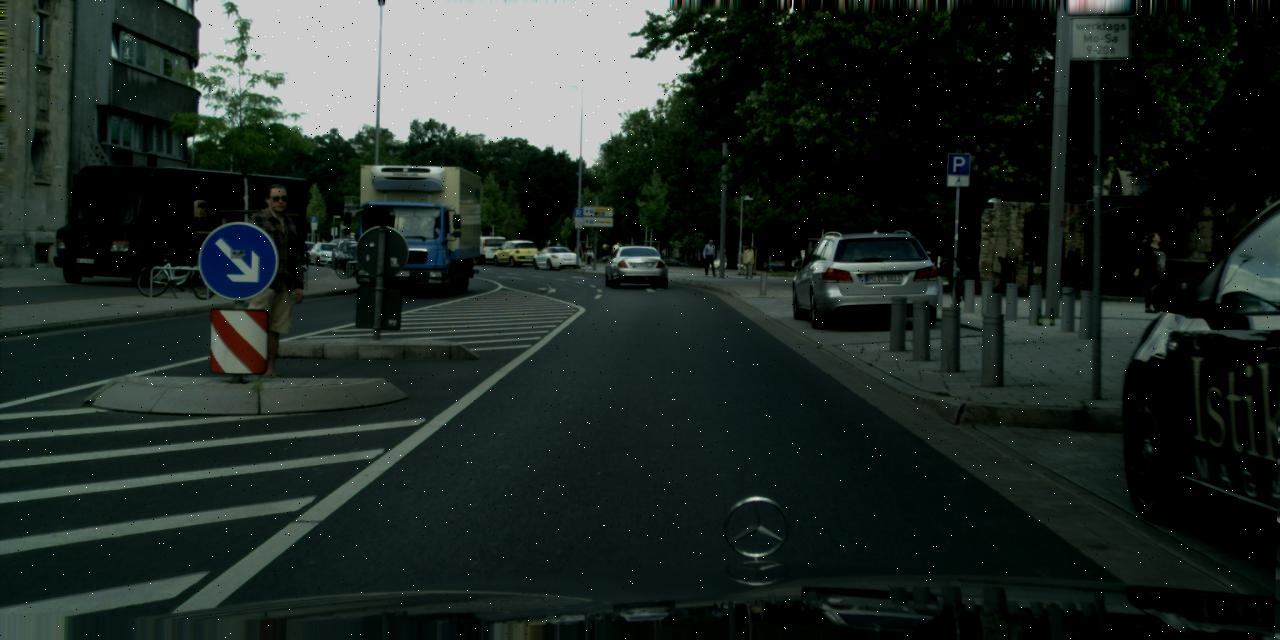ped: (229, 183, 310, 381), (1136, 231, 1168, 312), (703, 238, 718, 276), (742, 244, 756, 279), (584, 242, 594, 266), (574, 243, 582, 261)
